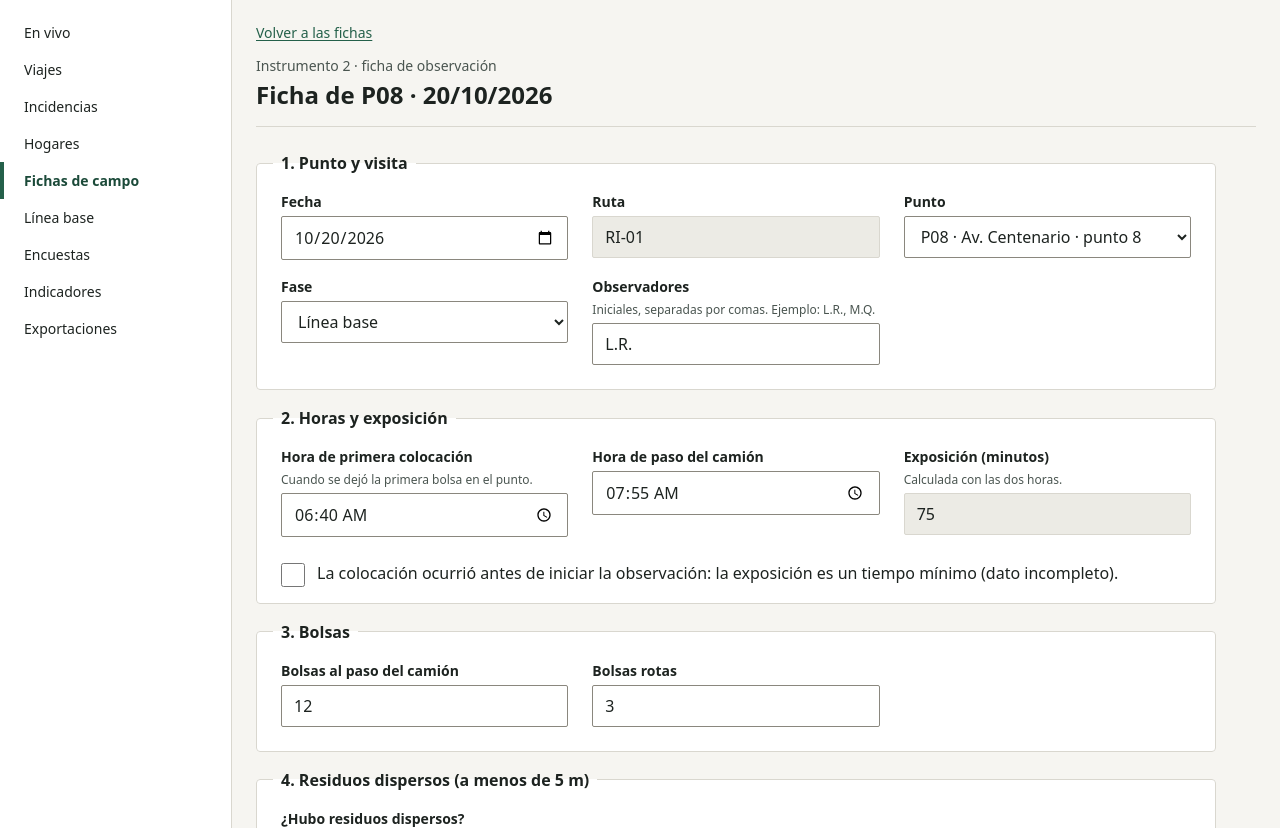
Test: FieldSheetEditorPage › lets a supervisor correct any sheet, sending the whole sheet back
Replace the text in the field labelled "Bolsas al paso del camión" with "14": (425, 706) [281,685,568,727]
(page scrolled)
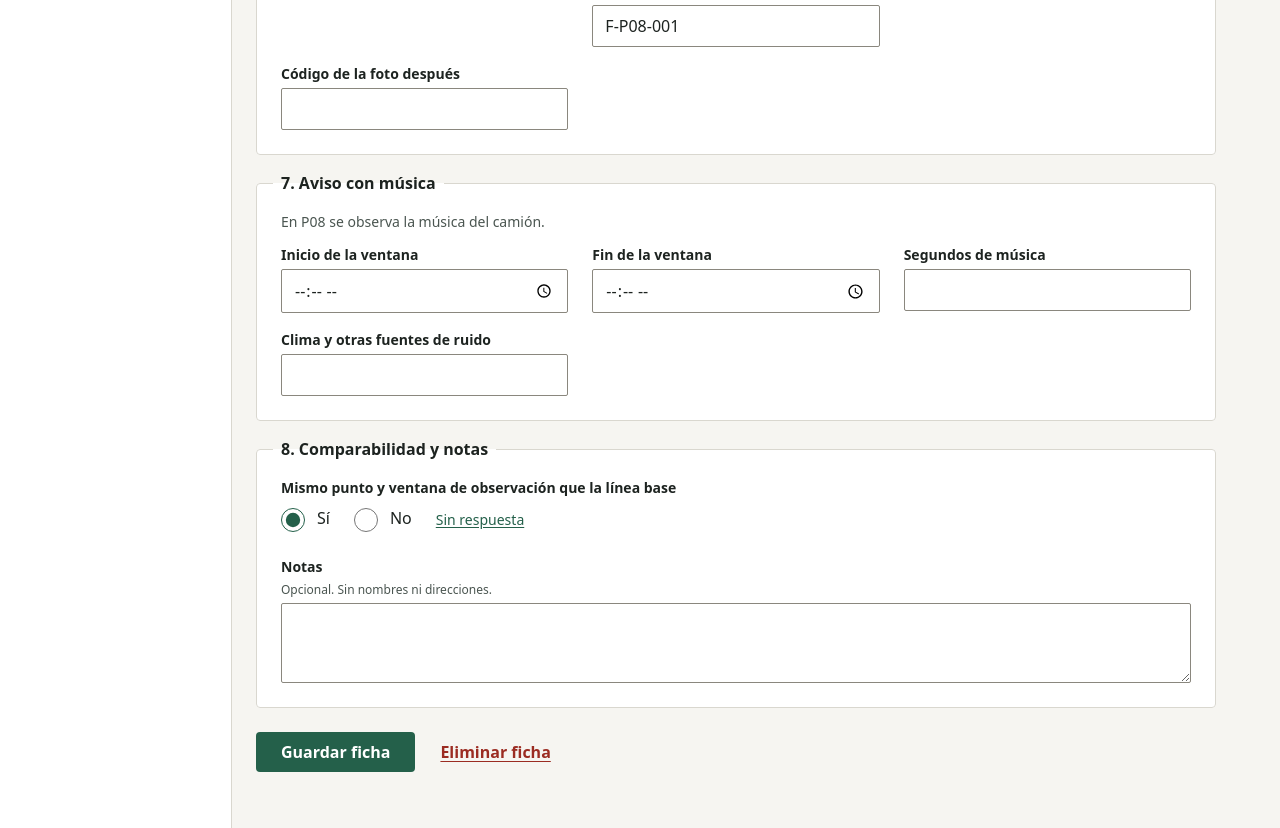
Click the button "Guardar ficha": (336, 752) [256,732,415,772]
(page scrolled)
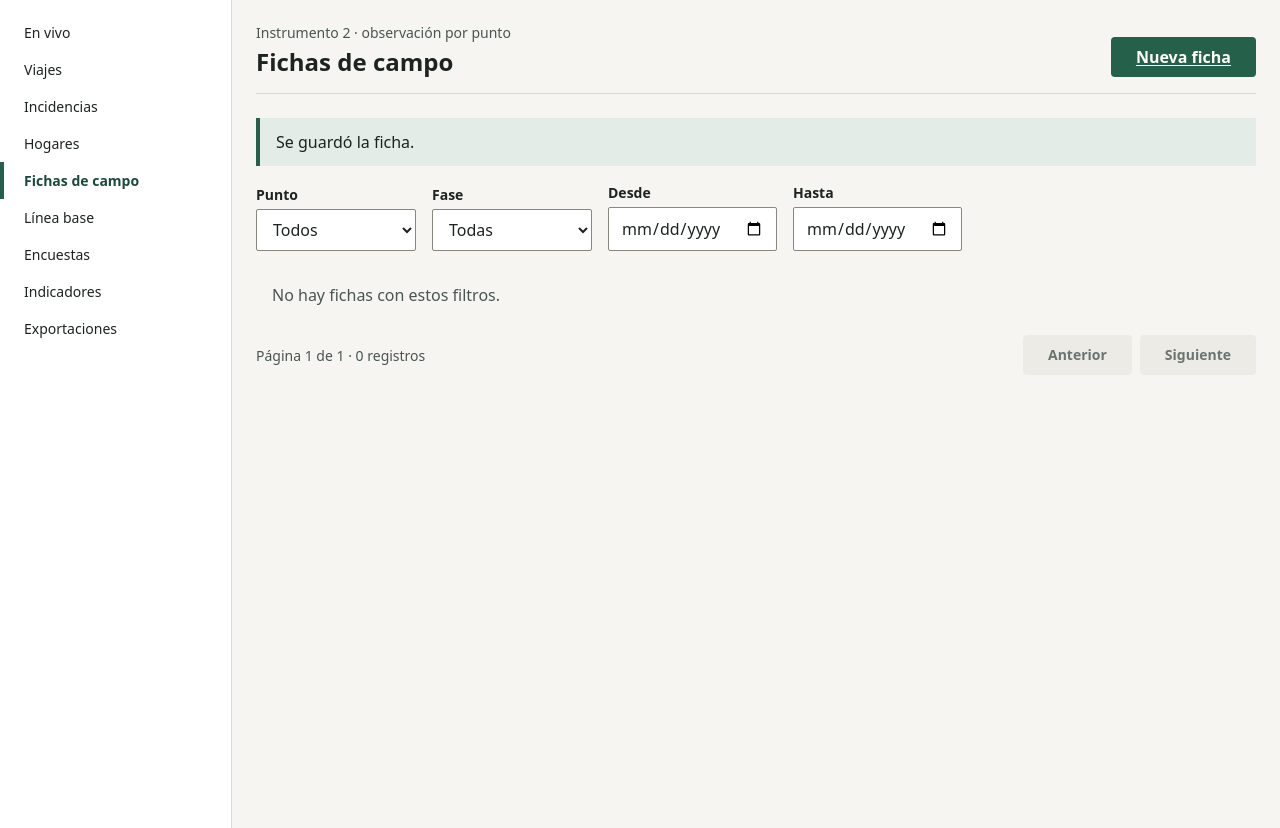
Check: the text "Se guardó la ficha." is shown, box [276,131,414,153]
Check: the heading reads "Fichas de campo", box [256,45,453,78]
